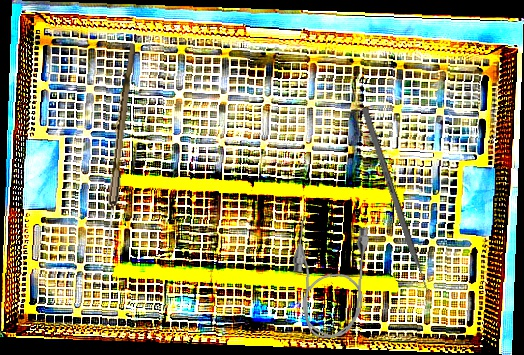Cannula: (289, 215, 370, 341)
Pusher: (360, 107, 436, 306)
Surgical Spoon: (101, 43, 136, 264)
